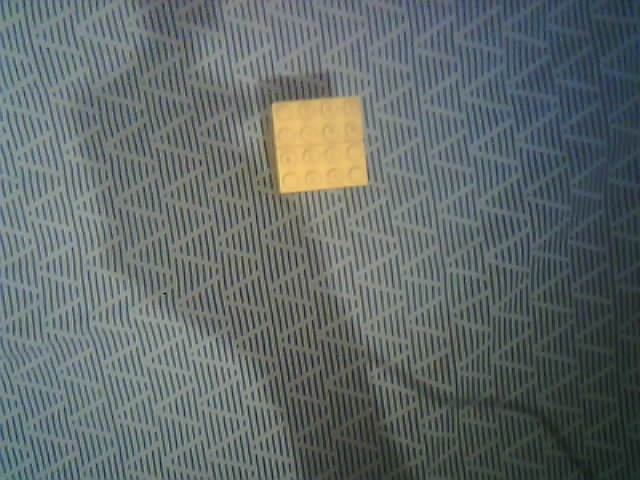lego: (264, 94, 371, 195)
